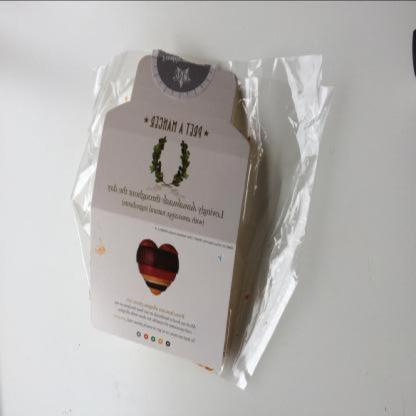Carton: (90, 55, 251, 370)
Plastic bag - wrapper: (71, 49, 338, 391)
